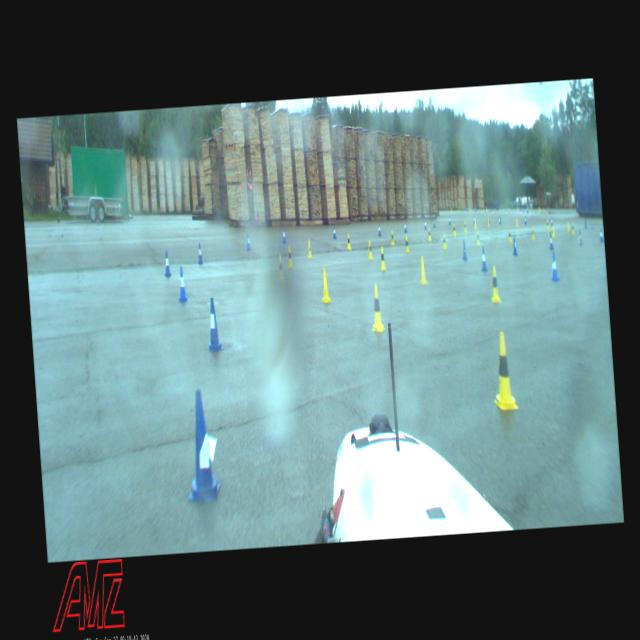blue_cone: (180, 388, 222, 501), (205, 297, 222, 351), (176, 266, 188, 302), (550, 252, 559, 281), (479, 246, 487, 272), (162, 250, 170, 276), (196, 242, 203, 262), (461, 240, 467, 260), (512, 236, 518, 256), (548, 232, 554, 250), (281, 227, 286, 243), (598, 228, 603, 242), (246, 233, 250, 250), (578, 229, 582, 245), (332, 225, 336, 238), (377, 222, 381, 235), (403, 221, 407, 232), (432, 218, 436, 228), (584, 218, 588, 228), (448, 215, 451, 224), (498, 215, 501, 224), (424, 218, 426, 230), (524, 216, 526, 224)
yellow_cone: (489, 332, 518, 409), (368, 283, 386, 332), (318, 266, 331, 302), (489, 264, 501, 302), (417, 254, 427, 284), (276, 253, 284, 280), (379, 246, 386, 270), (286, 245, 292, 268), (306, 239, 312, 258), (367, 240, 372, 260), (441, 232, 447, 248), (404, 235, 409, 252), (426, 227, 432, 240), (475, 230, 480, 245), (346, 233, 350, 249), (390, 230, 394, 245), (508, 228, 512, 242), (530, 226, 534, 239), (452, 223, 456, 236), (566, 220, 570, 232), (571, 222, 574, 233), (486, 217, 489, 226), (464, 220, 466, 232), (515, 218, 518, 226), (552, 225, 554, 236), (546, 219, 548, 229), (474, 218, 476, 228)
